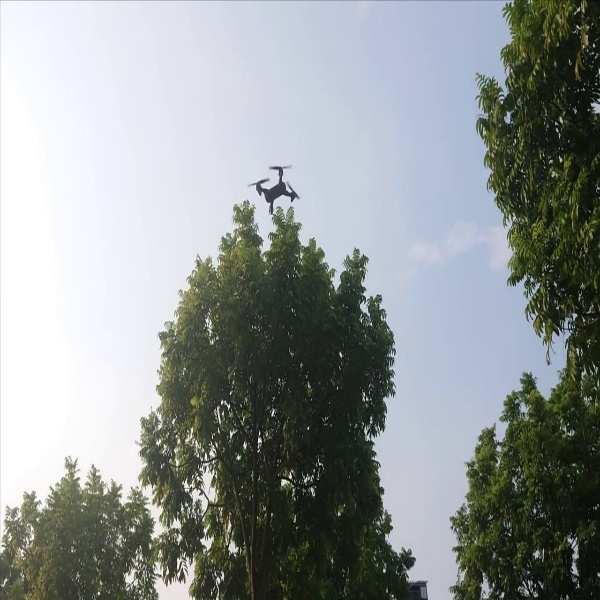drone: (246, 152, 311, 218)
